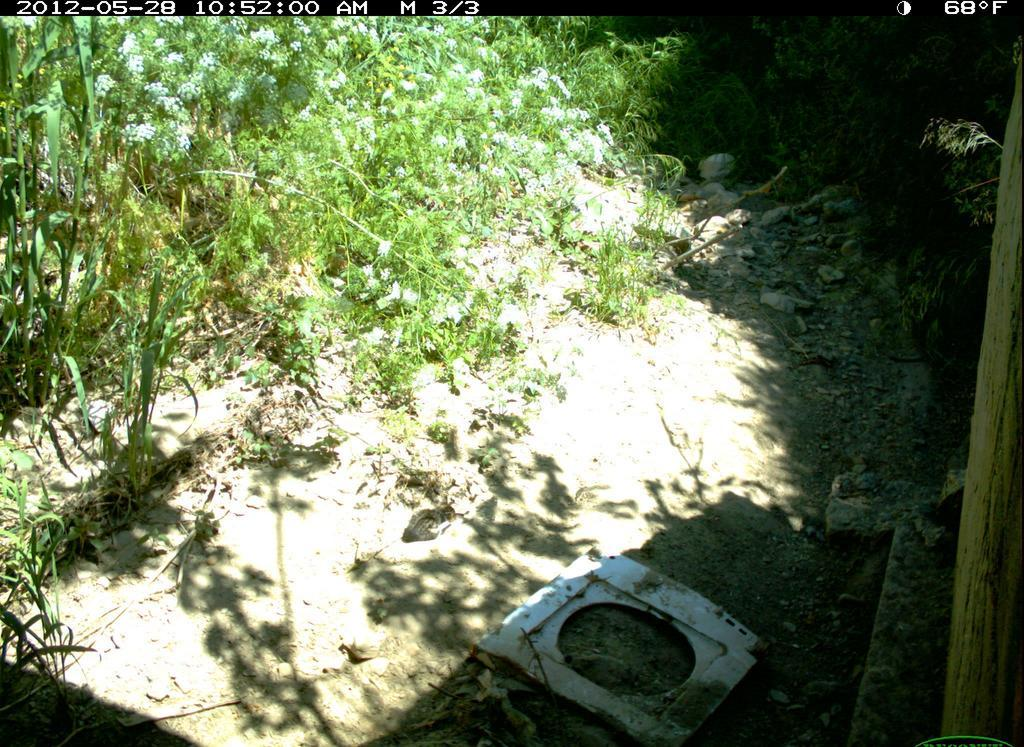cat: (395, 483, 471, 558)
